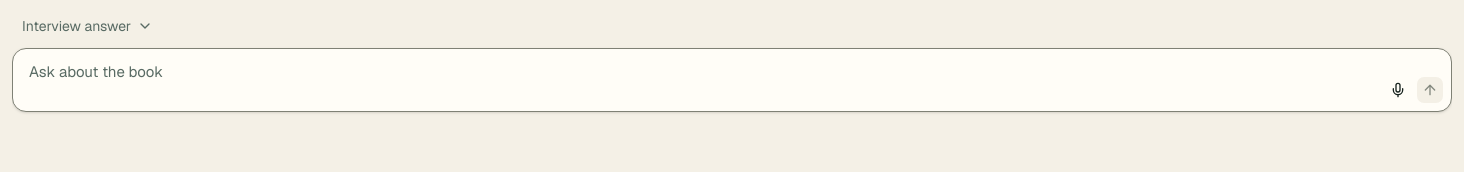
Test: dictation in the composer › lands spoken words at the caret rather than replacing the question
Type "Explain in chapter 4" into the dropdown labelled "Ask about the book". click: (732, 80)
box: [12, 48, 1452, 112]
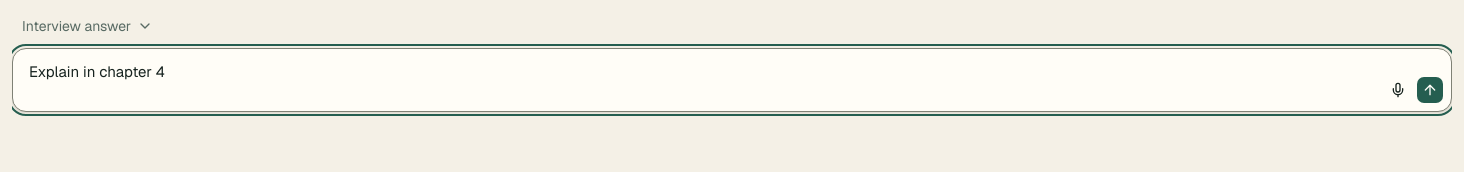
Click the button named "dictate". click: (1398, 90)
box: [1384, 76, 1412, 104]
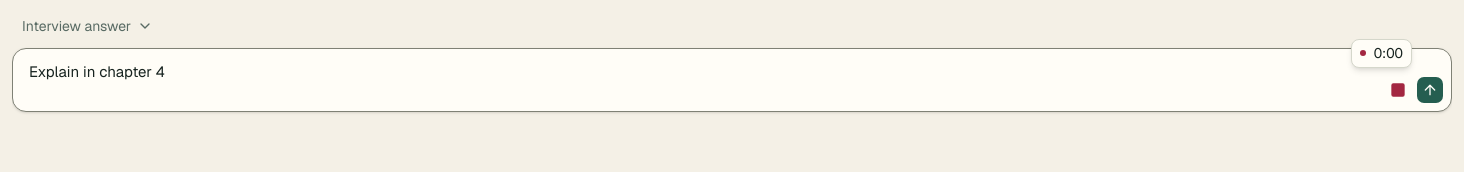
Click the button named "stop recording". click: (1398, 90)
box: [1384, 76, 1412, 104]
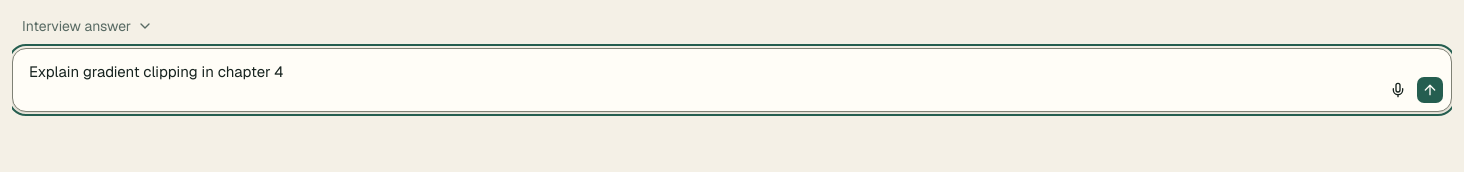
Expected: the dropdown named "Ask about the book" holds "Explain gradient clipping in chapter 4", [12, 48, 1452, 112]
